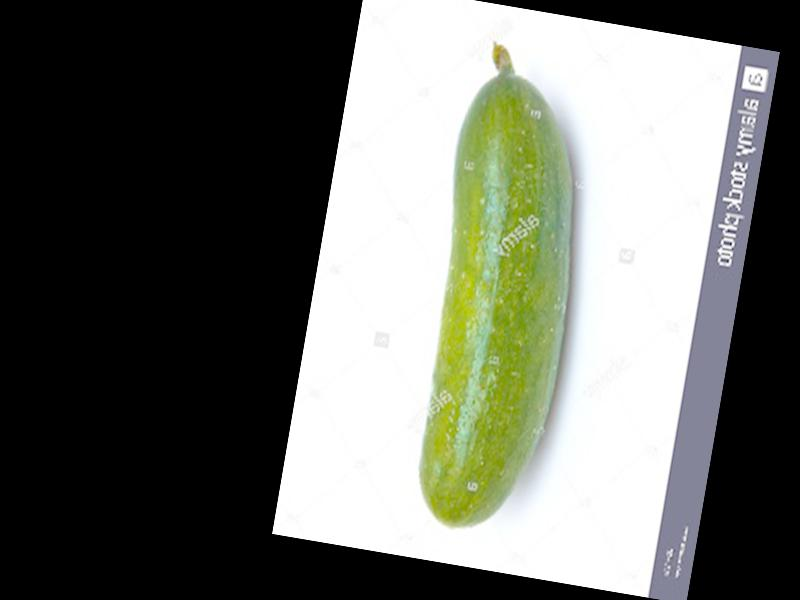Cucumber: (393, 38, 609, 542)
